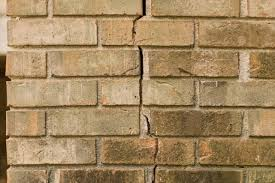crack: (128, 0, 159, 182)
